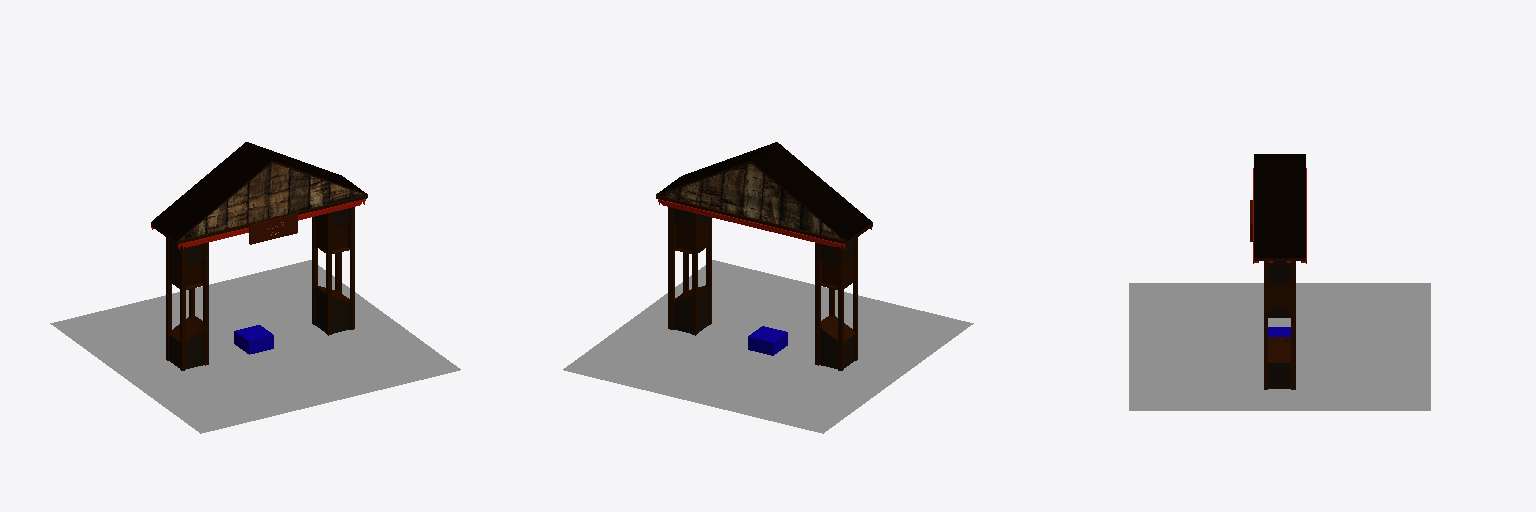
3 views of the same model, side by side, from view 1: azimuth 30°, elevation 25°; view 2: azimuth 150°, elevation 25°; view 3: azimuth 270°, elevation 25° (orthographic).
Visible parts, largest first — view 1: Plane, gate_Cube.002, Cube; view 2: Plane, gate_Cube.002, Cube; view 3: Plane, gate_Cube.002.
Boxes of the visible parts, box(x1,y1,x2,y2) form: Plane: box(50, 260, 460, 433); gate_Cube.002: box(151, 142, 367, 370); Cube: box(234, 325, 273, 354); Plane: box(563, 260, 973, 433); gate_Cube.002: box(656, 142, 872, 370); Cube: box(748, 326, 787, 355); Plane: box(1129, 283, 1430, 410); gate_Cube.002: box(1250, 154, 1306, 389).
Bounding box in the file's own units: 20.65 × 15.71 × 20.65.
9 materials, 1 textured.